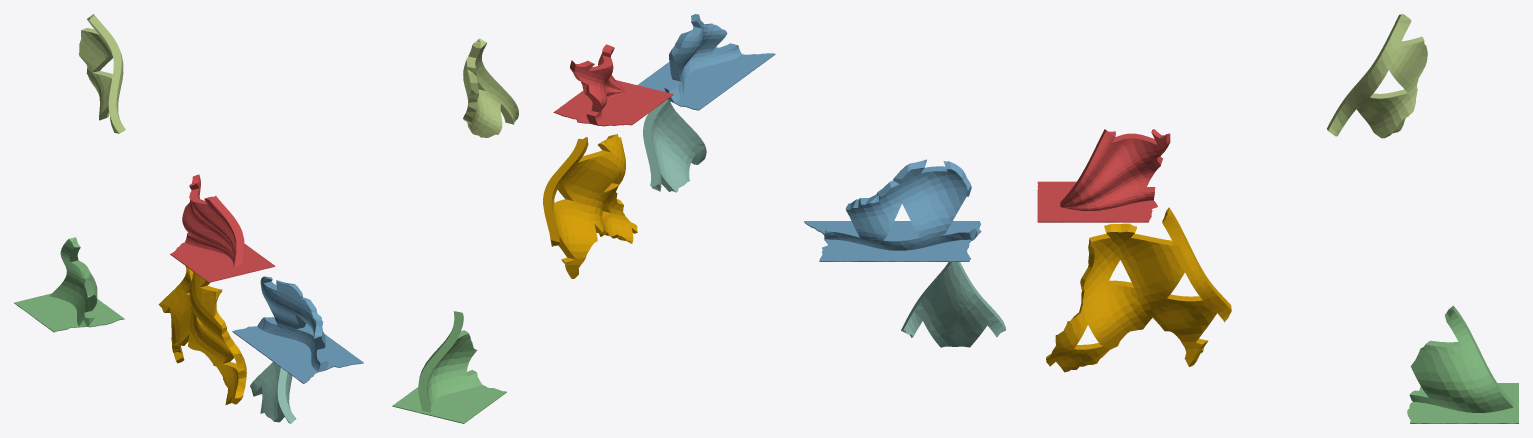
File: mode_5_6pcs_transformed.glb
3 views of the same model, side by side, from view 1: azimuth 30°, elevation 25°; view 2: azimuth 150°, elevation 25°; view 3: azimuth 270°, elevation 25° (orthographic). The views are drawn at different scales.
Visible parts, largest first — view 1: piece_2.obj, piece_0.obj, piece_1.obj, piece_3.obj, piece_5.obj, piece_4.obj; view 2: piece_0.obj, piece_2.obj, piece_3.obj, piece_1.obj, piece_4.obj, piece_5.obj; view 3: piece_0.obj, piece_2.obj, piece_1.obj, piece_3.obj, piece_5.obj, piece_4.obj.
Part boxes in pixels (left/top/right/bottom): piece_2.obj: left=232, top=276, right=363, bottom=383; piece_0.obj: left=158, top=266, right=246, bottom=405; piece_1.obj: left=170, top=174, right=275, bottom=282; piece_3.obj: left=14, top=237, right=124, bottom=332; piece_5.obj: left=79, top=14, right=125, bottom=133; piece_4.obj: left=250, top=362, right=295, bottom=423; piece_0.obj: left=543, top=134, right=637, bottom=278; piece_2.obj: left=637, top=14, right=775, bottom=110; piece_3.obj: left=392, top=311, right=506, bottom=423; piece_1.obj: left=553, top=44, right=673, bottom=126; piece_4.obj: left=643, top=99, right=706, bottom=192; piece_5.obj: left=463, top=38, right=518, bottom=137; piece_0.obj: left=1046, top=207, right=1231, bottom=372; piece_2.obj: left=804, top=159, right=981, bottom=261; piece_1.obj: left=1037, top=129, right=1170, bottom=222; piece_3.obj: left=1407, top=305, right=1518, bottom=423; piece_5.obj: left=1327, top=14, right=1427, bottom=138; piece_4.obj: left=901, top=262, right=1006, bottom=347.
Size of the model in its own units: 0.2564 by 1.16 by 1.93.
